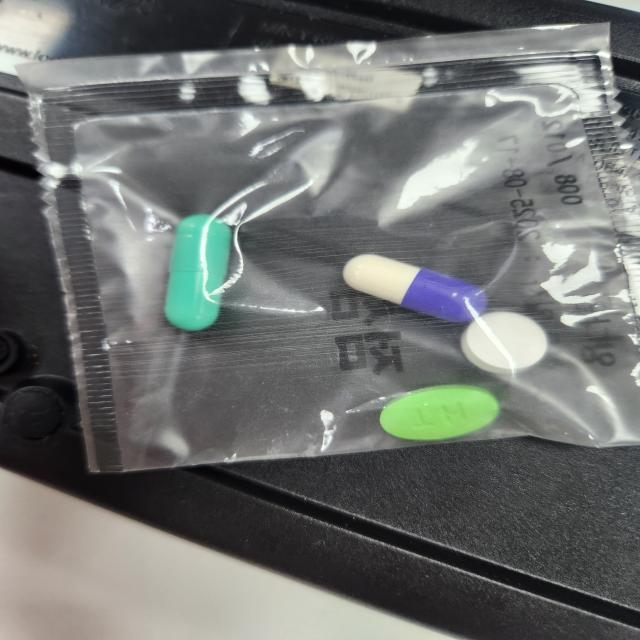러키펜정: (460, 312, 550, 379)
씨엠지세파클러캡슐: (343, 256, 487, 325)
에르도캡슐: (169, 215, 233, 330)
휴티렌정: (377, 387, 501, 445)
